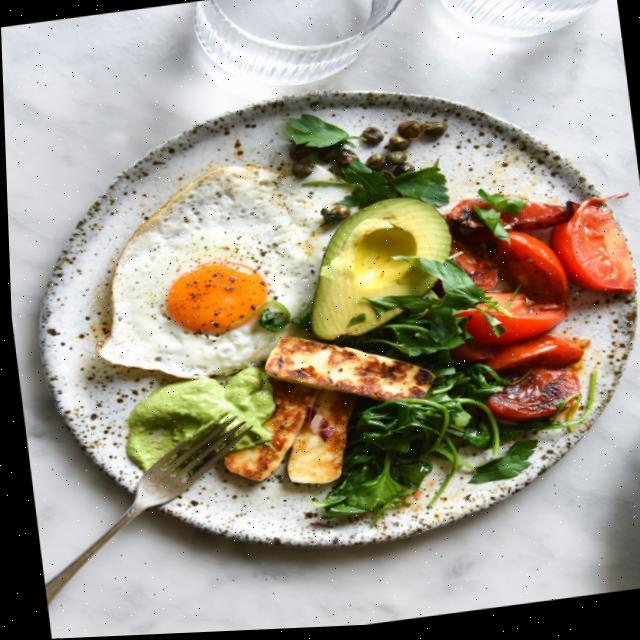Egg: (95, 166, 308, 380)
